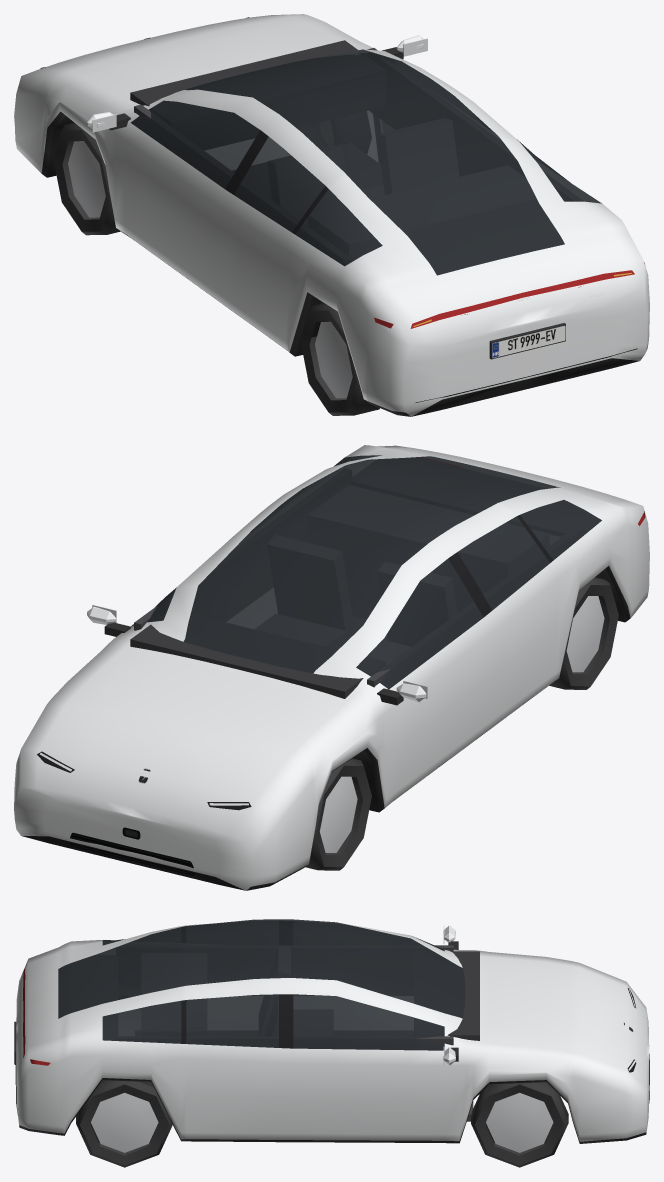
The model's file is tesna_lod1.glb.
3 views of the same model, one above another, from view 1: azimuth 30°, elevation 25°; view 2: azimuth 150°, elevation 25°; view 3: azimuth 270°, elevation 25° (orthographic). The views are drawn at different scales.
Visible parts, largest first — view 1: body, wheelmesh_2, wheelmesh_0, wheelmesh_1; view 2: body, wheelmesh_0, wheelmesh_2; view 3: body, wheelmesh_1, wheelmesh_3, wheelmesh_2.
Boxes of the visible parts, box(x1,y1,x2,y2) form: body: box(14, 14, 649, 416); wheelmesh_2: box(300, 303, 379, 415); wheelmesh_0: box(53, 122, 120, 235); wheelmesh_1: box(298, 112, 371, 153); body: box(14, 445, 649, 890); wheelmesh_0: box(305, 758, 371, 870); wheelmesh_2: box(549, 577, 618, 689); body: box(14, 919, 649, 1143); wheelmesh_1: box(471, 1082, 568, 1167); wheelmesh_3: box(76, 1080, 172, 1167); wheelmesh_2: box(119, 986, 140, 1035).
Size of the model in its own units: 2.37 by 1.43 by 4.82.
16 materials, 1 textured.
